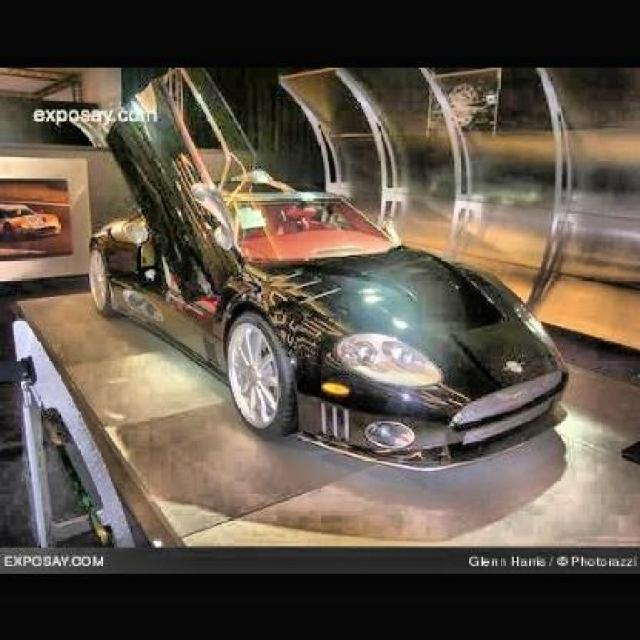black: (82, 163, 568, 451)
